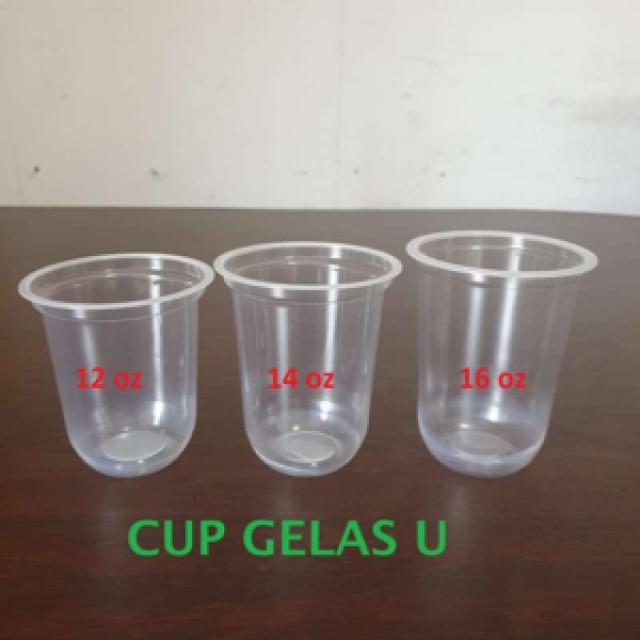plastic cup: (399, 224, 602, 484), (214, 235, 404, 484), (13, 248, 213, 484)
